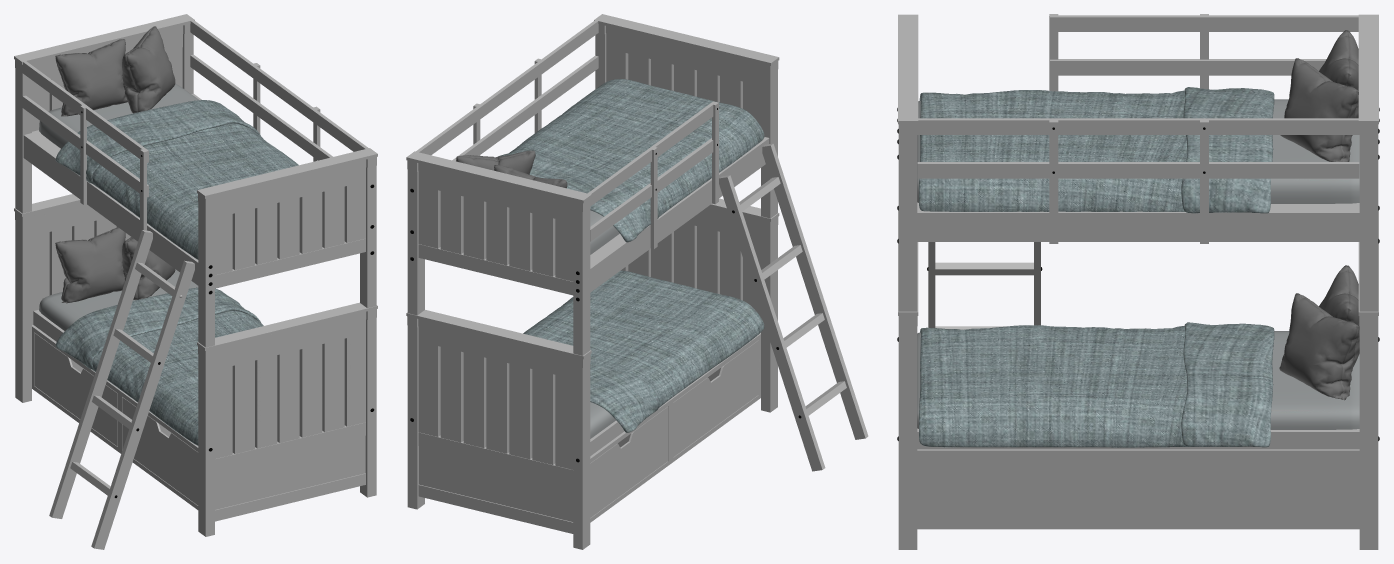
The model's file is simple_bunk_bed_3d_model.glb.
3 views of the same model, side by side, from view 1: azimuth 30°, elevation 25°; view 2: azimuth 150°, elevation 25°; view 3: azimuth 270°, elevation 25° (orthographic). The views are drawn at different scales.
Parts seen in each view (by area): view 1: Bunk; view 2: Bunk; view 3: Bunk.
Part boxes in pixels (x1=…): Bunk: x1=14, y1=14, x2=377, y2=549; Bunk: x1=406, y1=14, x2=868, y2=549; Bunk: x1=897, y1=14, x2=1379, y2=549.
Bounding box in the file's own units: 1.63 × 1.96 × 1.96.
Materials: 2 (2 with a texture image).
